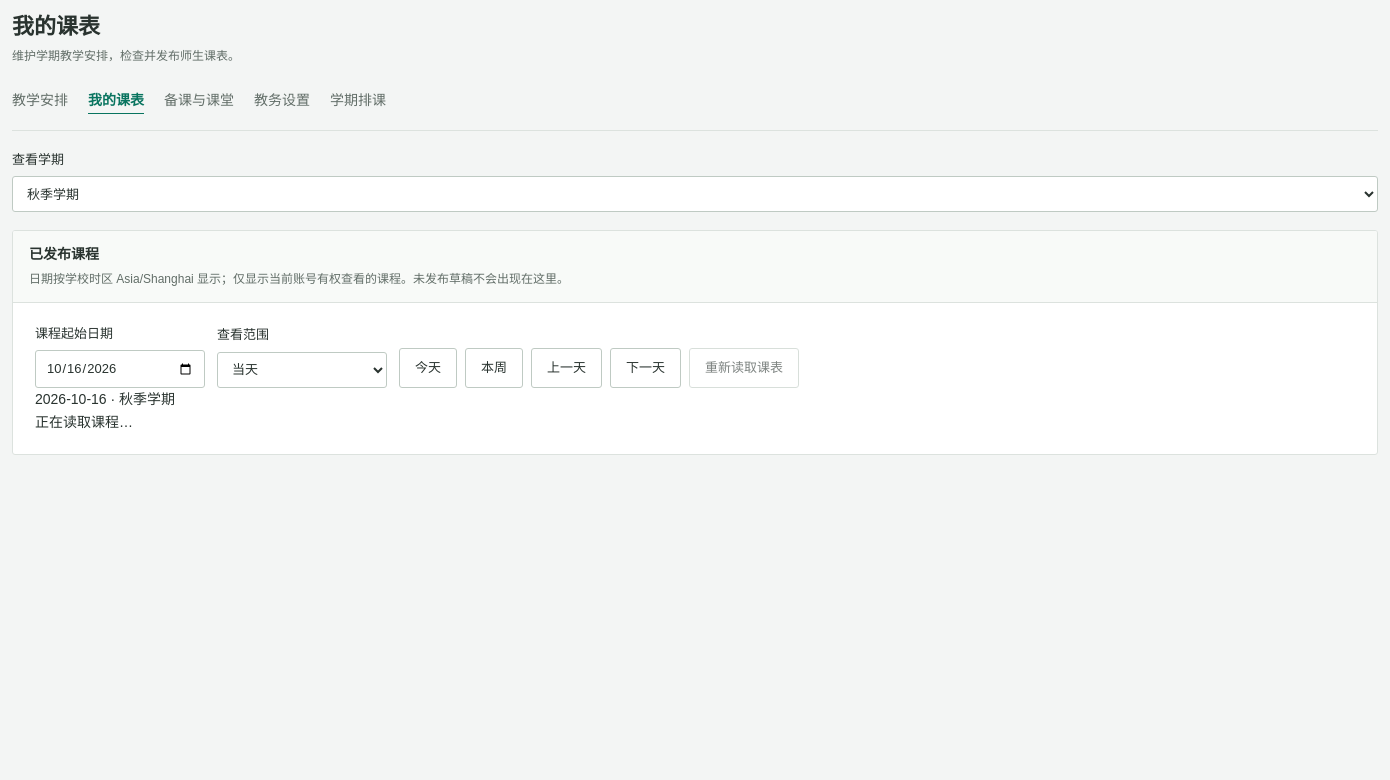
Test: ignores stale schedule responses after a date change
What coordinates should you click on to do the following:
click the button "下一天"
I would click on:
 (646, 368)
Its box is 610,348 -> 681,388.
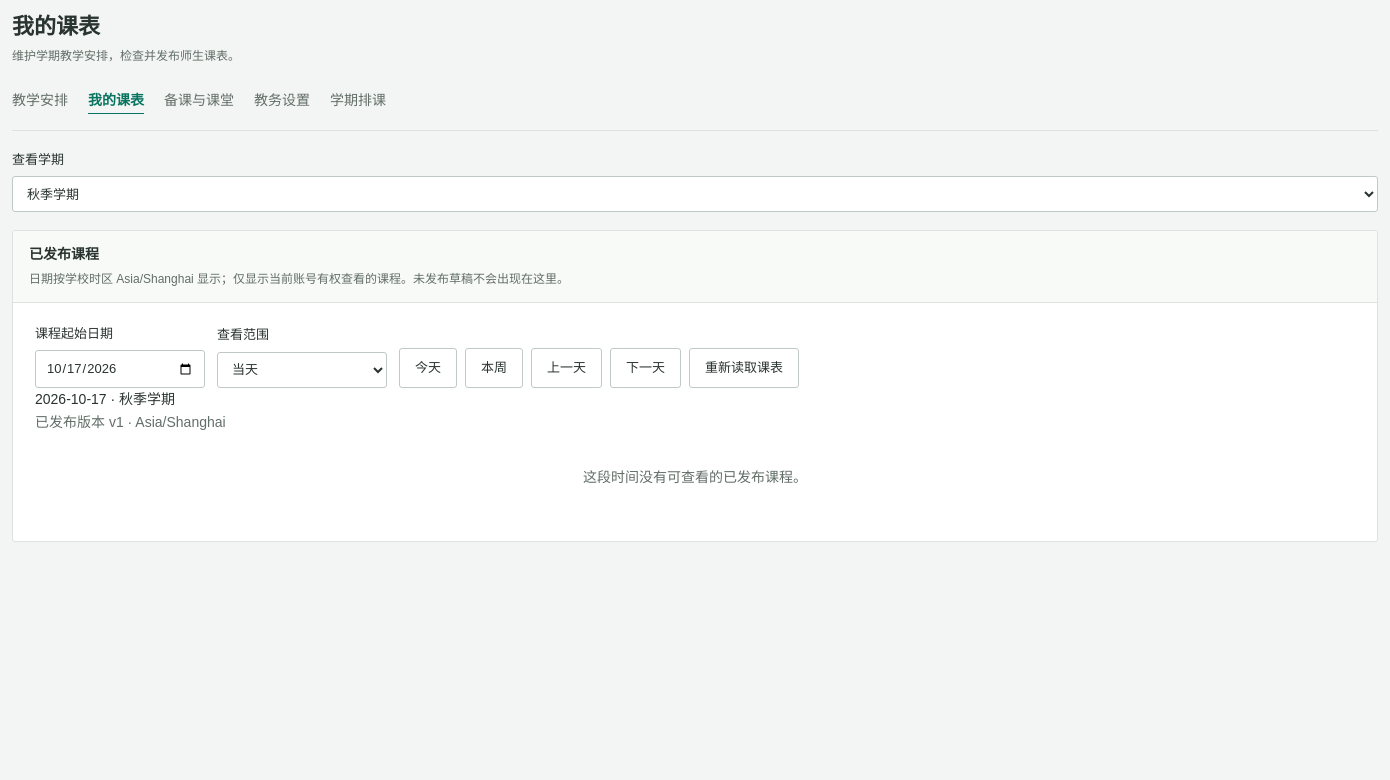
Check: the text "已发布版本 v1" is shown, box 35,414 -> 226,430
